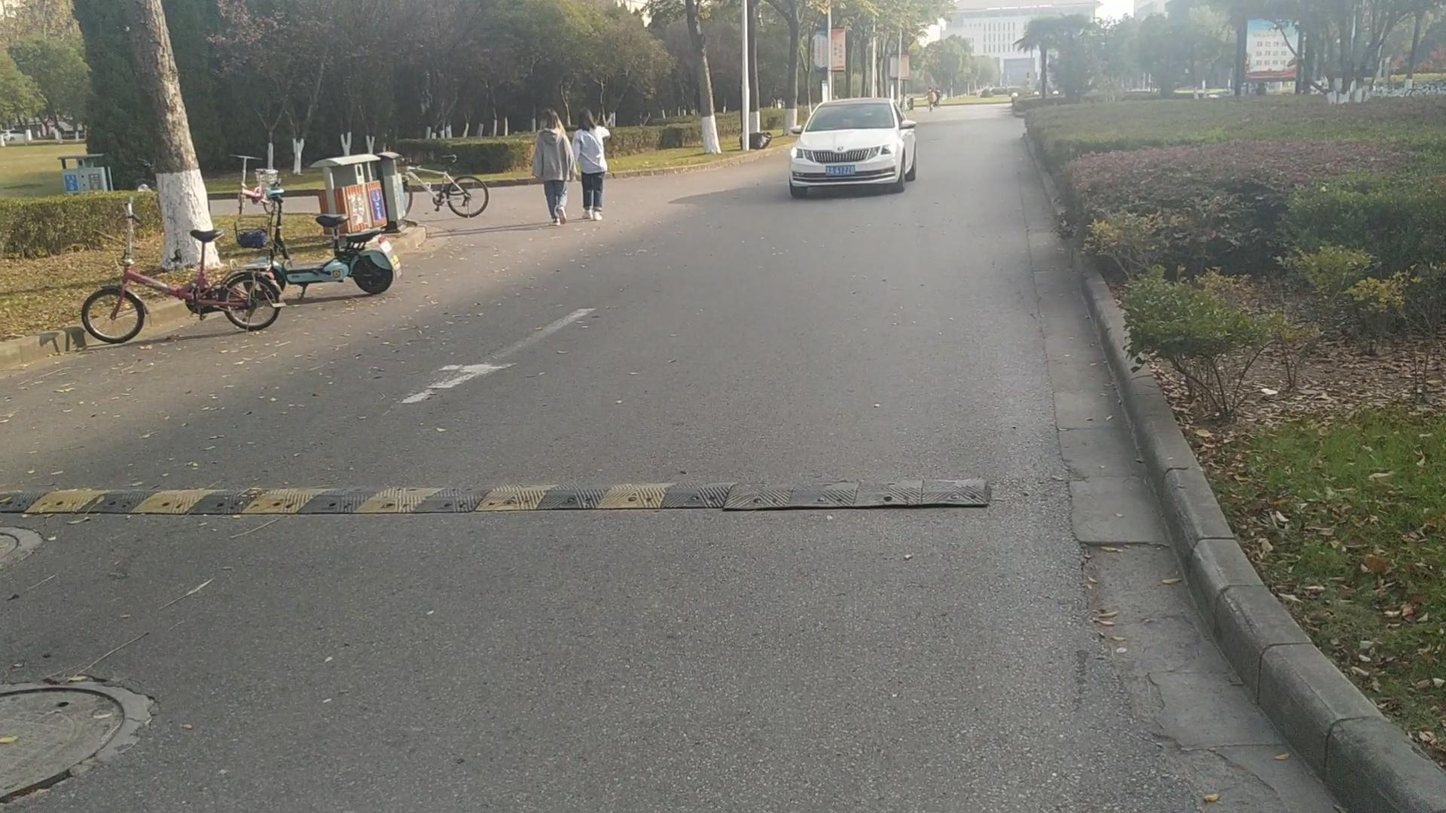car: (787, 97, 919, 198)
